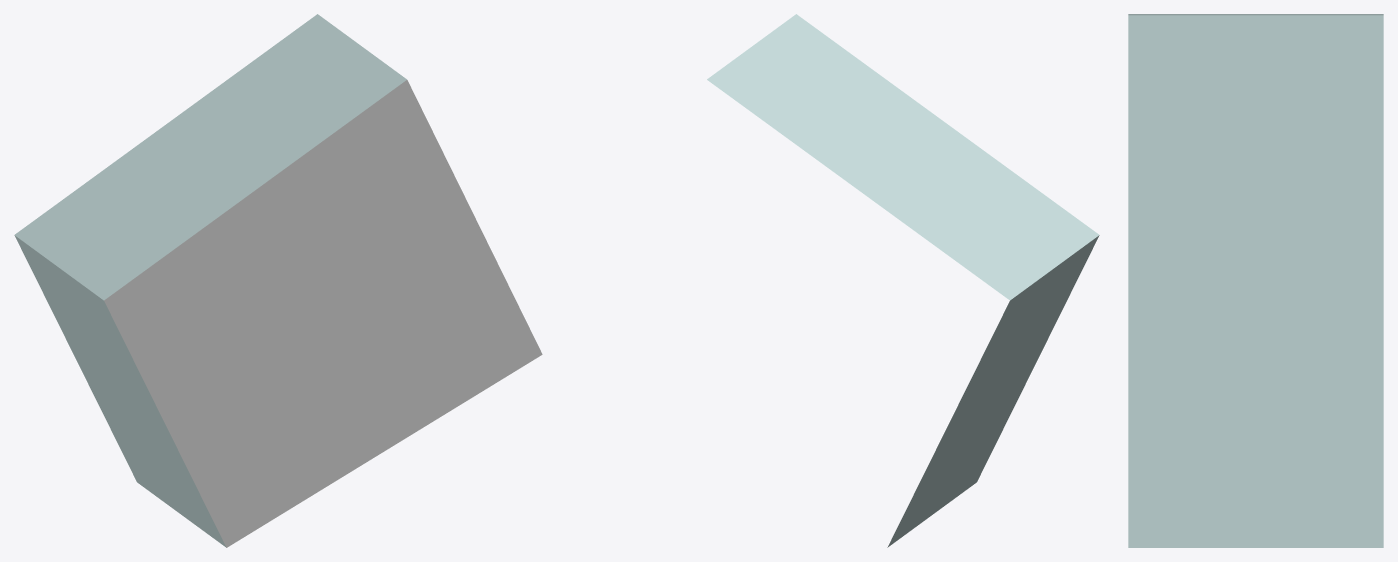
3 views of the same model, side by side, from view 1: azimuth 30°, elevation 25°; view 2: azimuth 150°, elevation 25°; view 3: azimuth 270°, elevation 25° (orthographic). The views are drawn at different scales.
Visible parts, largest first — view 1: 0_1_1_2_3_2_0_1_1; view 2: 0_1_1_2_3_2_0_1_1; view 3: 0_1_1_2_3_2_0_1_1.
Boxes of the visible parts, <box> form: 0_1_1_2_3_2_0_1_1: <box>14,14,542,547</box>; 0_1_1_2_3_2_0_1_1: <box>707,14,1099,547</box>; 0_1_1_2_3_2_0_1_1: <box>1128,14,1383,547</box>.
Size of the model in its own units: 8.48 by 7.83 by 3.
